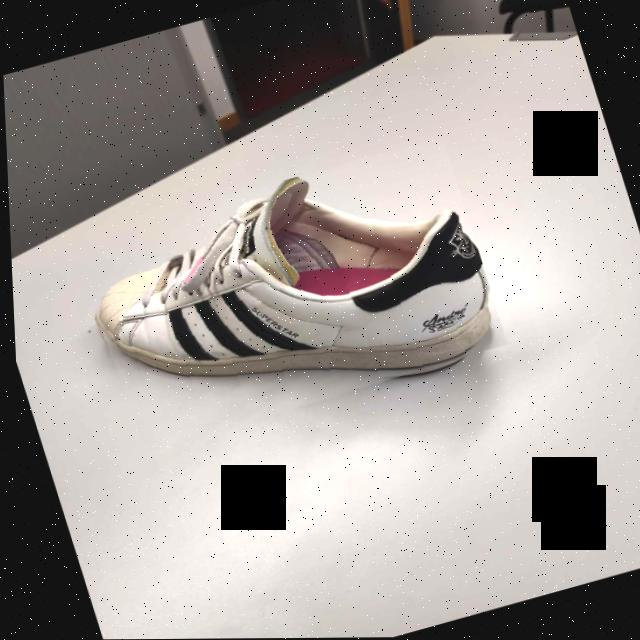shoe: (62, 136, 510, 456)
